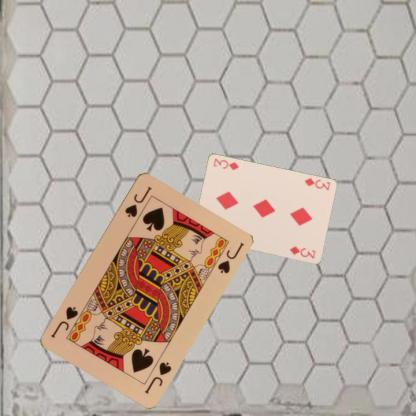3d: (302, 175, 331, 192)
Js: (122, 183, 153, 219), (142, 359, 172, 395)
